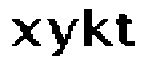k: (81, 6, 113, 48)
t: (115, 10, 138, 46)
x: (6, 17, 43, 48)
y: (46, 16, 79, 60)
